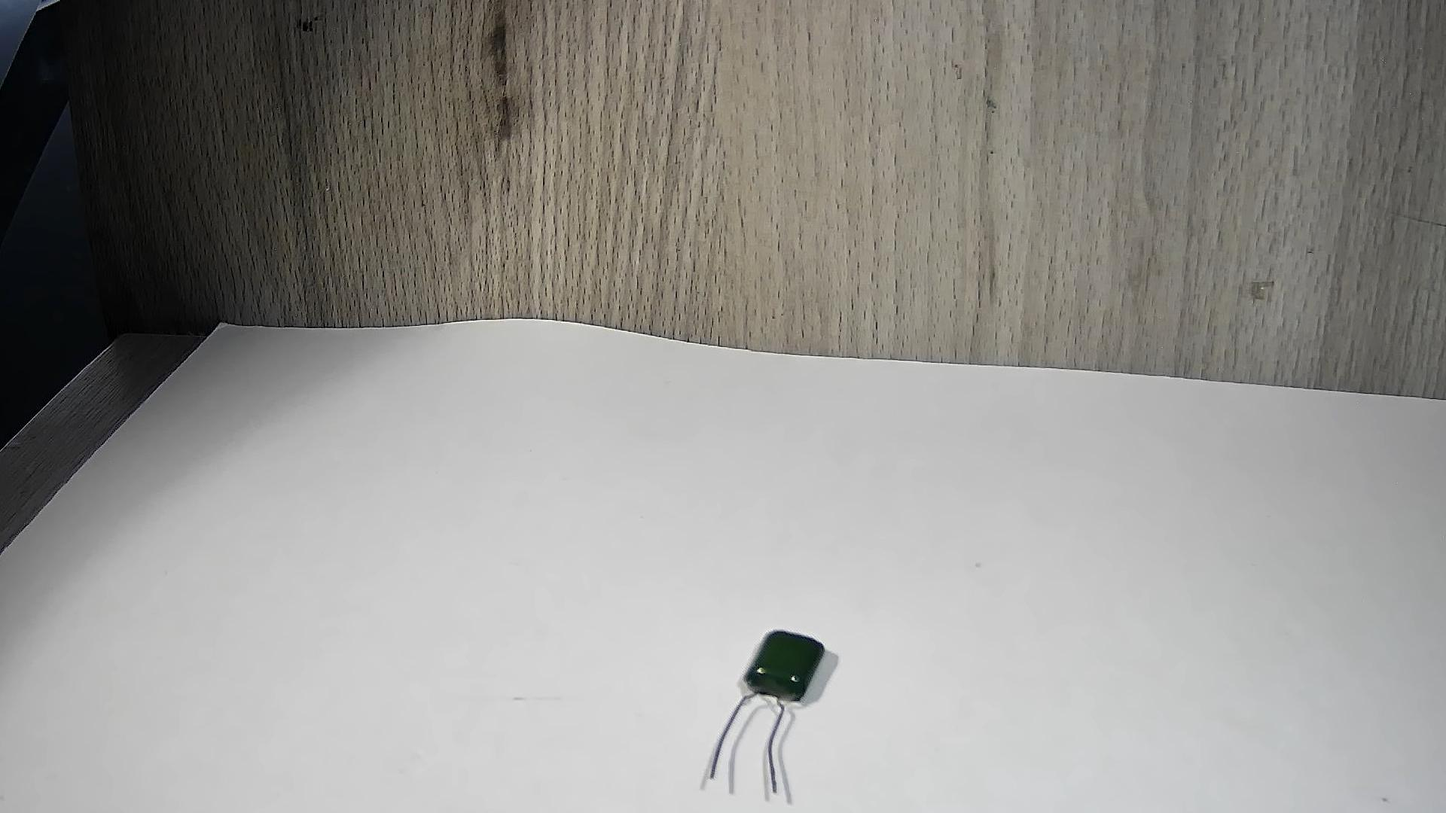capacitor ceramico: (681, 590, 844, 813)
